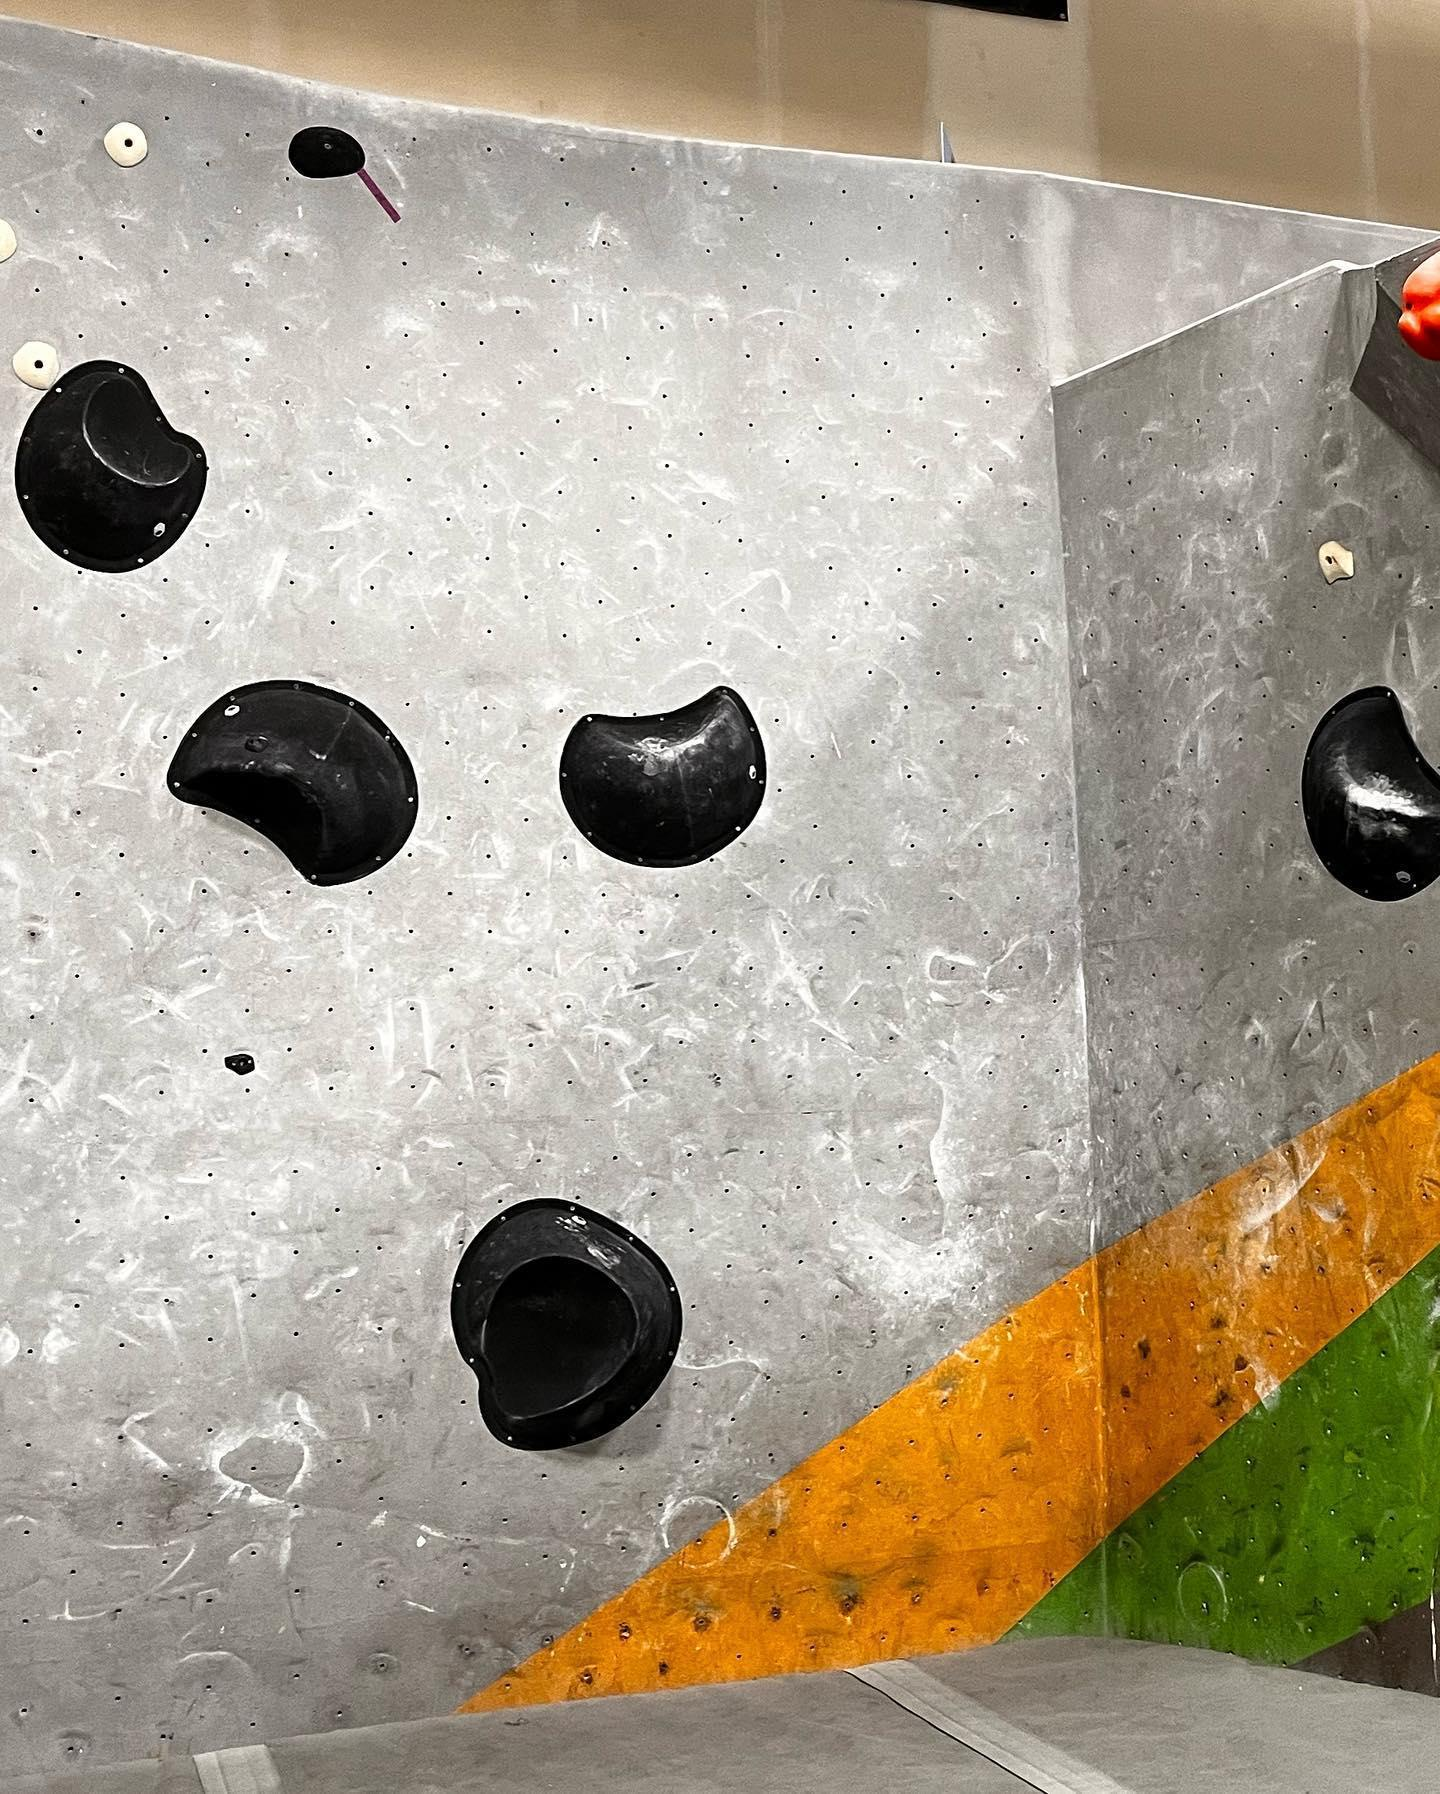hold: (450, 1196, 683, 1453), (166, 680, 419, 886), (13, 360, 206, 573), (558, 686, 767, 867), (1300, 685, 1440, 904), (1397, 250, 1440, 363), (288, 125, 366, 179), (12, 339, 60, 389), (103, 120, 148, 167), (1318, 541, 1356, 586), (223, 1053, 256, 1076)
